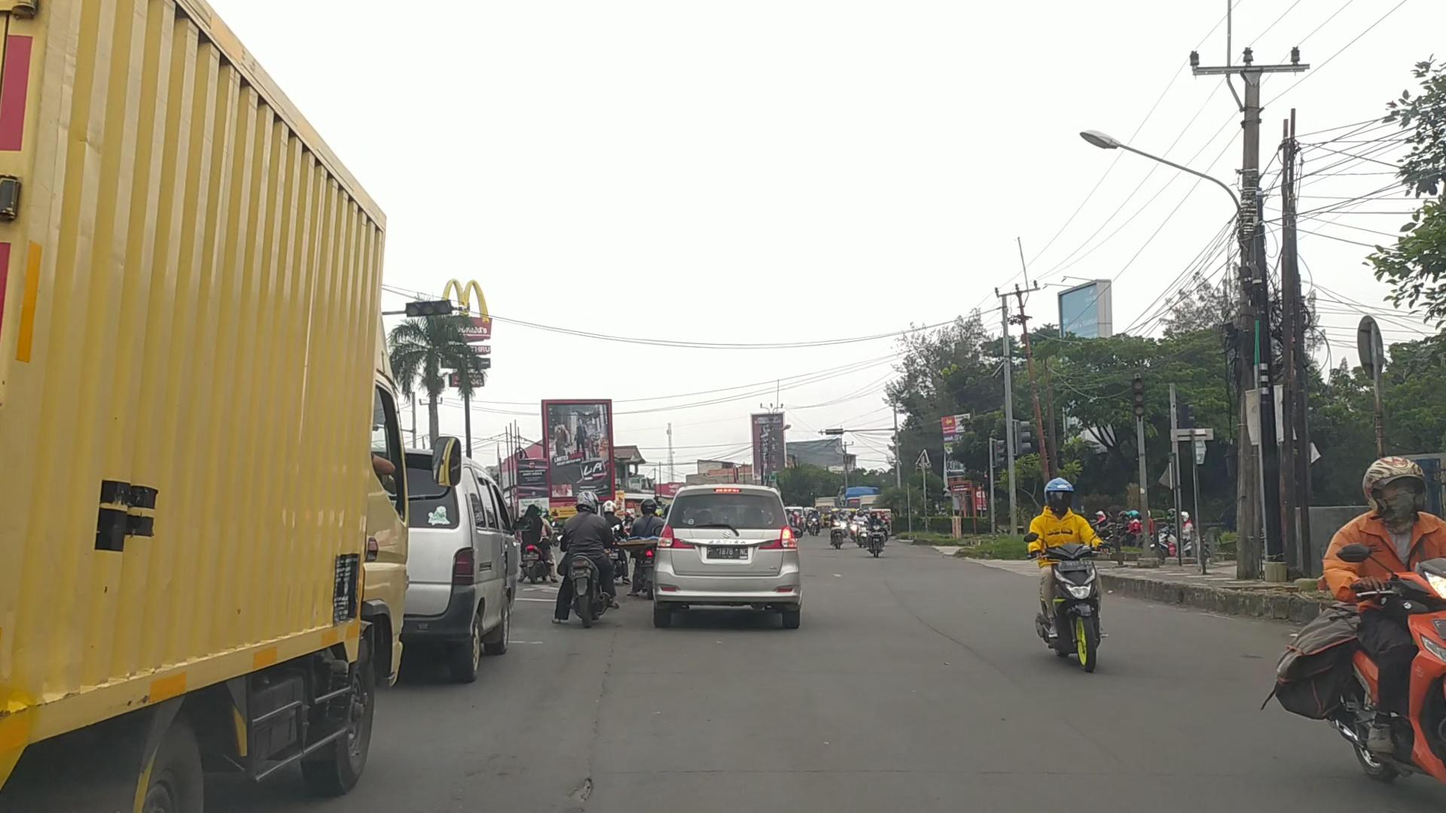pothole: (568, 776, 595, 805)
